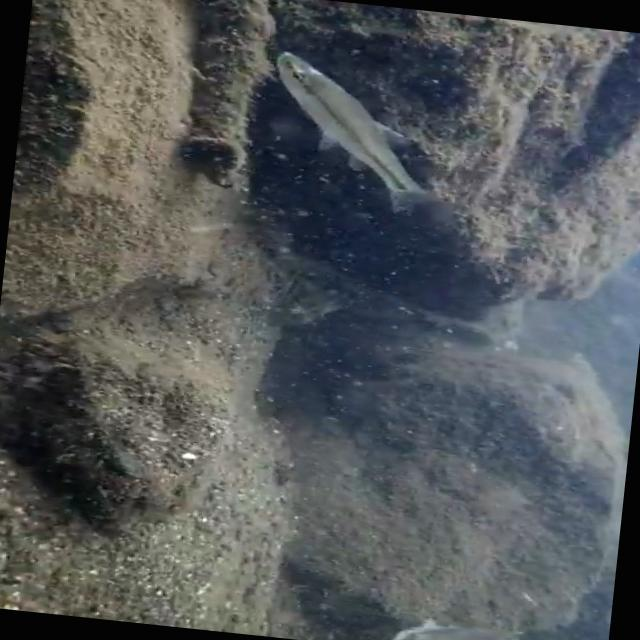Cakil Baligi: (255, 46, 467, 218)
